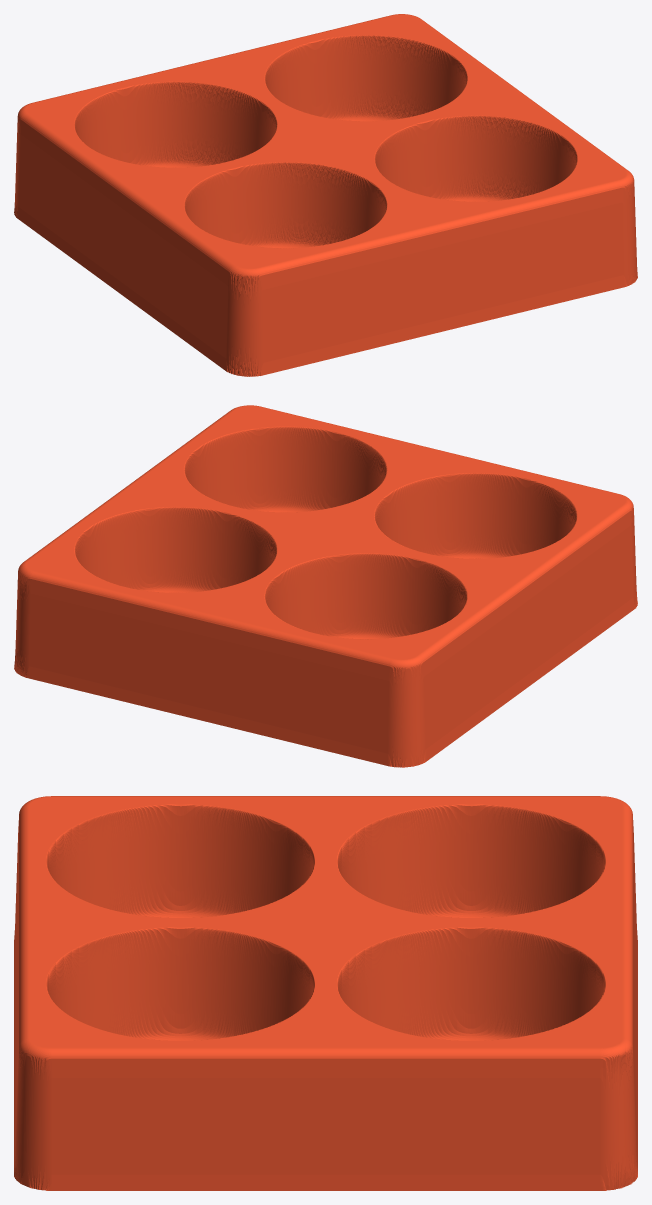
File: mold.glb
The picture shows the model from 3 angles, top to bottom: view 1: azimuth 30°, elevation 25°; view 2: azimuth 150°, elevation 25°; view 3: azimuth 270°, elevation 25°; orthographic projection. The views are drawn at different scales.
Parts seen in each view (by area): view 1: geometry_0; view 2: geometry_0; view 3: geometry_0.
Part boxes in pixels (x1,y1,x2,y2): geometry_0: (14,14,637,376); geometry_0: (14,405,637,767); geometry_0: (14,796,637,1190).
Bounding box in the file's own units: 0.1493 × 0.036 × 0.1493.
